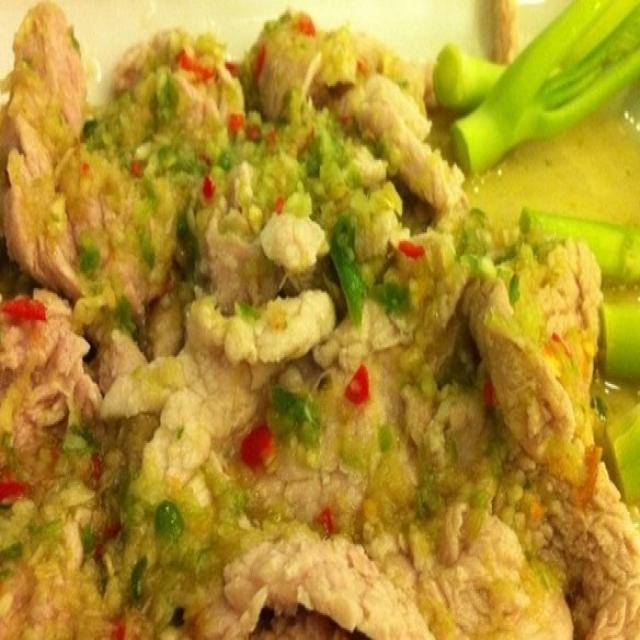猪肉菜式: (13, 20, 614, 633)
